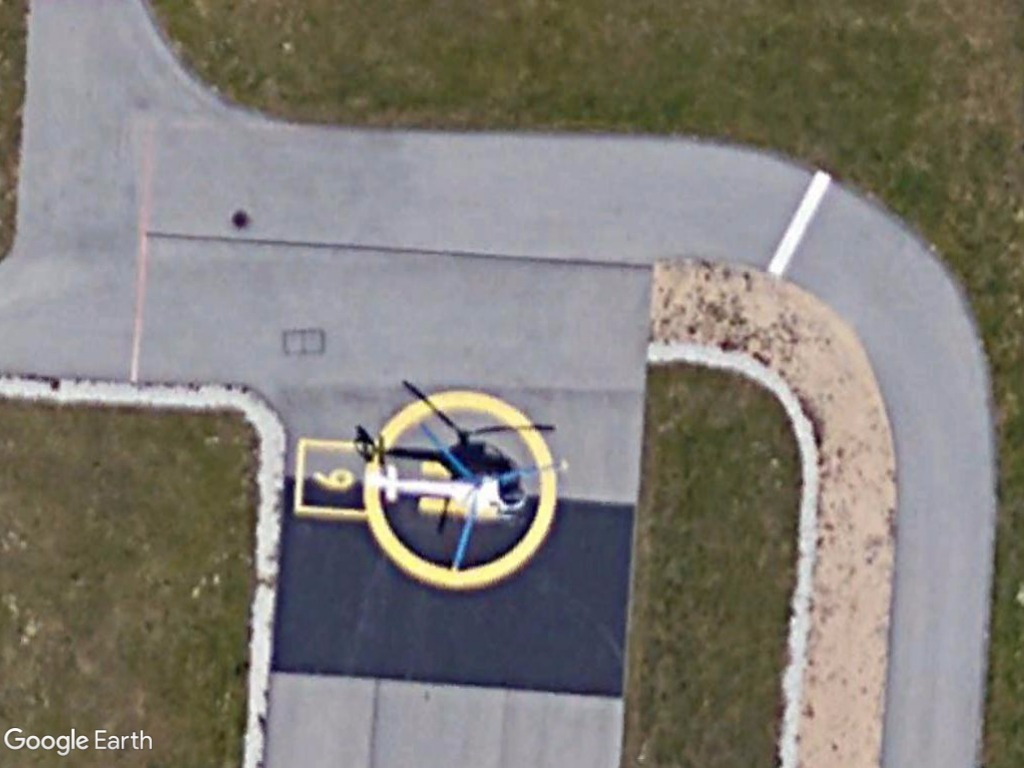helicopter: (336, 416, 568, 576)
